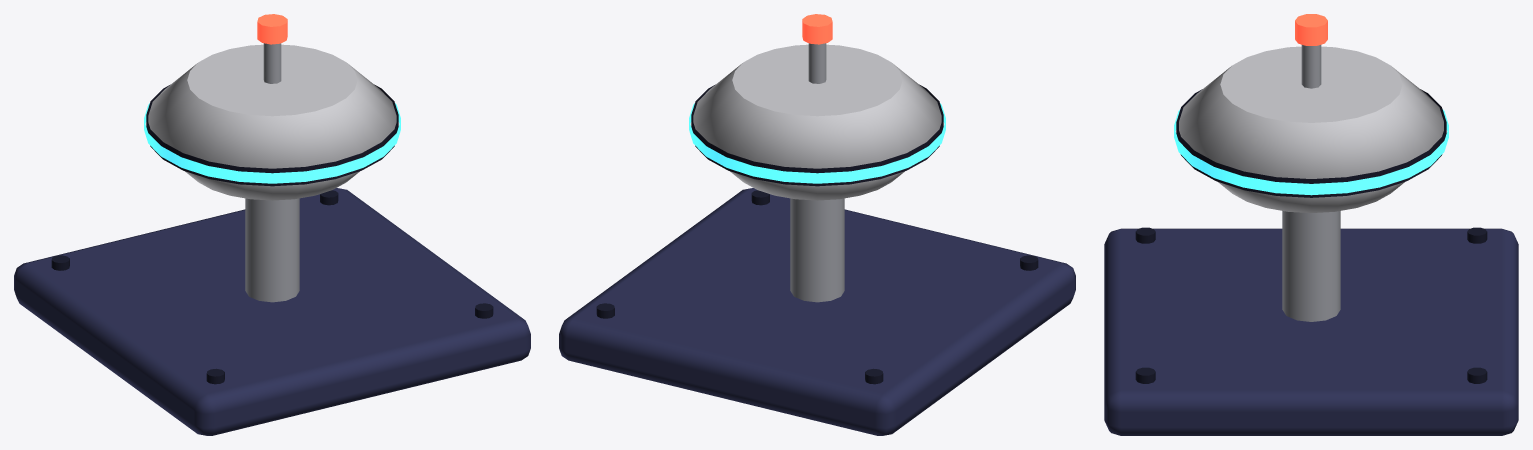
Rendered from roof.small.sensor.glb.
The picture shows the model from 3 angles, left to right: view 1: azimuth 30°, elevation 25°; view 2: azimuth 150°, elevation 25°; view 3: azimuth 270°, elevation 25°; orthographic projection. The views are drawn at different scales.
Parts seen in each view (by area): view 1: roof.small.sensor; view 2: roof.small.sensor; view 3: roof.small.sensor.
Boxes of the visible parts, left/top/right/bottom form: roof.small.sensor: left=14, top=14, right=530, bottom=435; roof.small.sensor: left=559, top=14, right=1075, bottom=435; roof.small.sensor: left=1104, top=14, right=1518, bottom=435.
Size of the model in its own units: 0.5 by 0.445 by 0.5.
